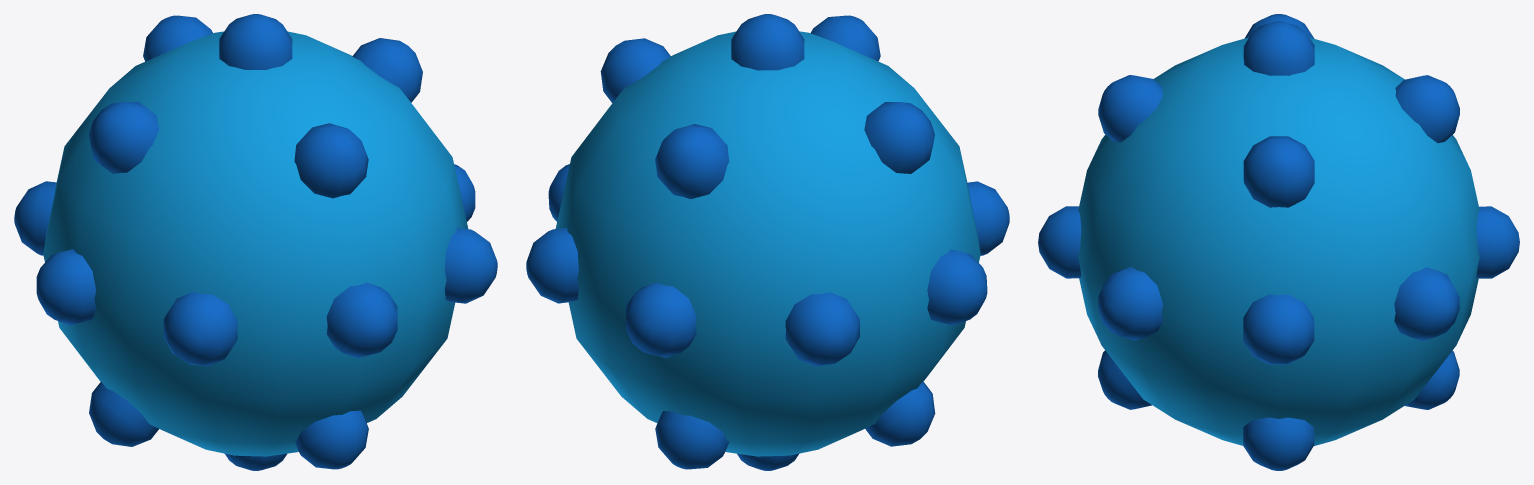
File: danger ball_blue.fbx
3 renders of one model, left to right at view 1: azimuth 30°, elevation 25°; view 2: azimuth 150°, elevation 25°; view 3: azimuth 270°, elevation 25°, orthographic. The views are drawn at different scales.
Parts seen in each view (by area): view 1: danger ball_blue; view 2: danger ball_blue; view 3: danger ball_blue.
Part boxes in pixels (<box>): danger ball_blue: <box>14,14,497,470</box>; danger ball_blue: <box>526,14,1009,470</box>; danger ball_blue: <box>1038,14,1519,470</box>.
Bounding box in the file's own units: 0.4351 × 0.4351 × 0.4351.
